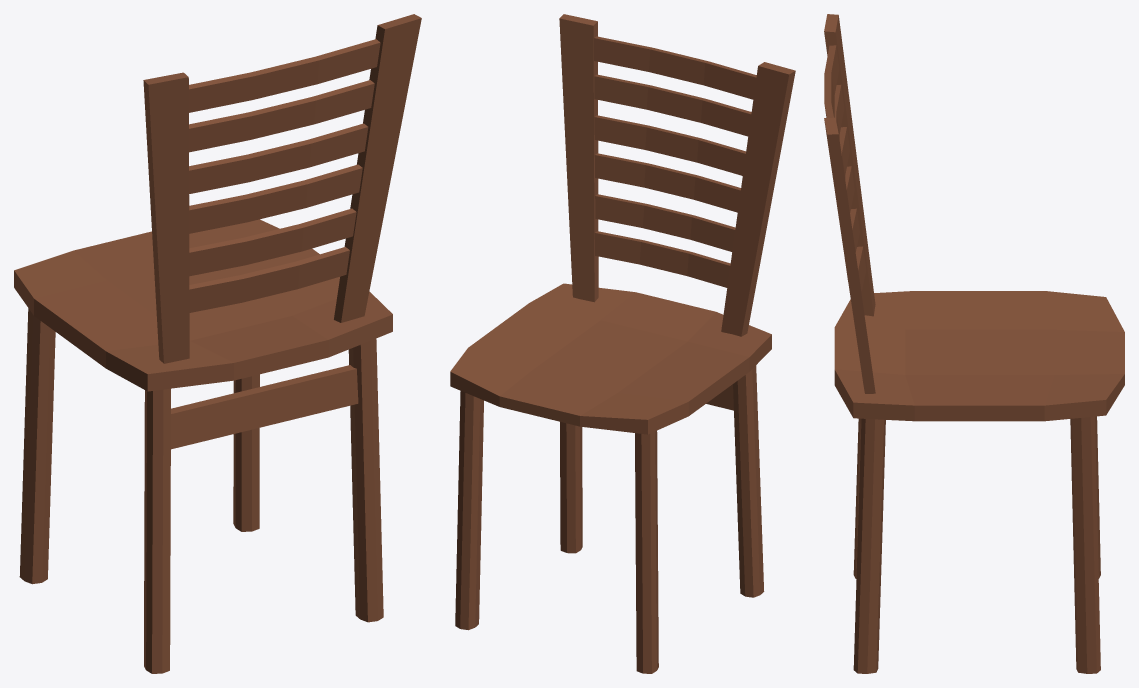
The picture shows the model from 3 angles, left to right: view 1: azimuth 30°, elevation 25°; view 2: azimuth 150°, elevation 25°; view 3: azimuth 270°, elevation 25°; orthographic projection. The views are drawn at different scales.
Visible parts, largest first — view 1: Plane.009, Plane.014, Plane.010, Plane.011, Plane.013; view 2: Plane.009, Plane.014, Plane.010, Plane.011; view 3: Plane.009, Plane.010, Plane.011, Plane.014.
Part boxes in pixels (bbox=[...]): Plane.009: bbox=[14, 219, 392, 391]; Plane.014: bbox=[189, 39, 380, 312]; Plane.010: bbox=[19, 308, 383, 673]; Plane.011: bbox=[143, 14, 421, 363]; Plane.013: bbox=[171, 365, 358, 449]; Plane.009: bbox=[450, 283, 771, 434]; Plane.014: bbox=[594, 36, 756, 287]; Plane.010: bbox=[455, 365, 764, 673]; Plane.011: bbox=[559, 14, 795, 336]; Plane.009: bbox=[834, 291, 1124, 421]; Plane.010: bbox=[853, 416, 1100, 673]; Plane.011: bbox=[824, 14, 875, 393]; Plane.014: bbox=[824, 45, 866, 293].
Bounding box in the file's own units: 1.02 × 2.15 × 1.07.
